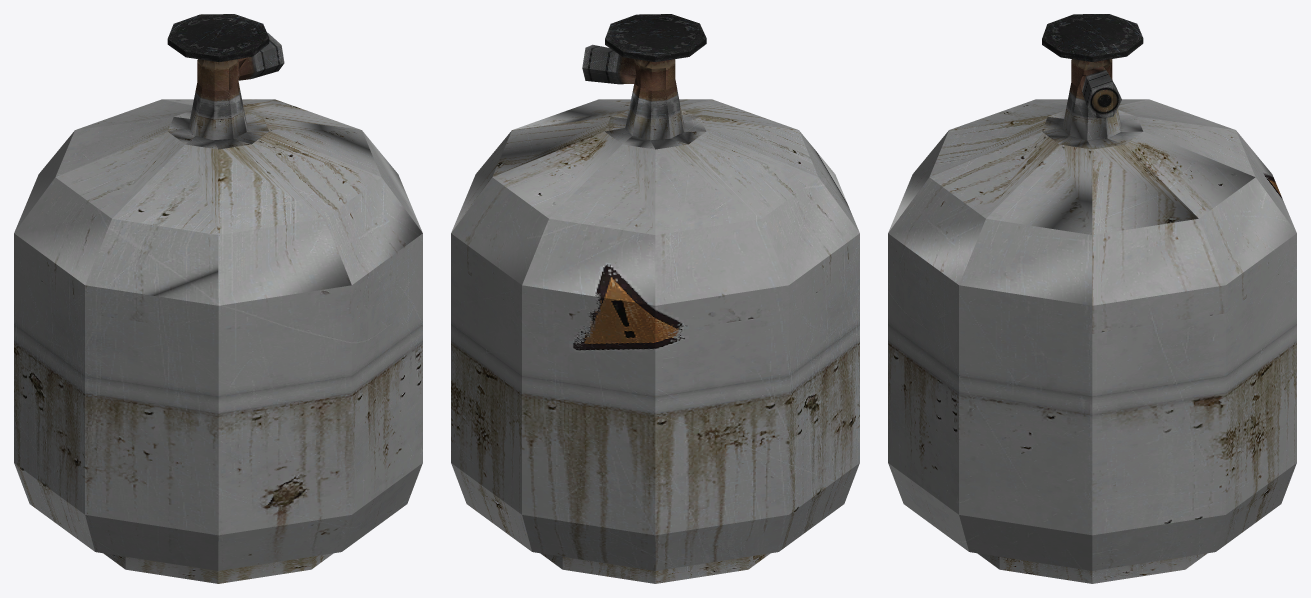
The model's file is GasBottle_LOD1.FBX.
3 views of the same model, side by side, from view 1: azimuth 30°, elevation 25°; view 2: azimuth 150°, elevation 25°; view 3: azimuth 270°, elevation 25° (orthographic).
Parts seen in each view (by area): view 1: Gaz_tankL1; view 2: Gaz_tankL1; view 3: Gaz_tankL1.
Boxes of the visible parts, x1,y1,x2,y2 form: Gaz_tankL1: [14, 14, 422, 583]; Gaz_tankL1: [451, 14, 859, 583]; Gaz_tankL1: [888, 14, 1296, 583].
Bounding box in the file's own units: 3.28 × 4.41 × 3.33.
1 material, 1 textured.
